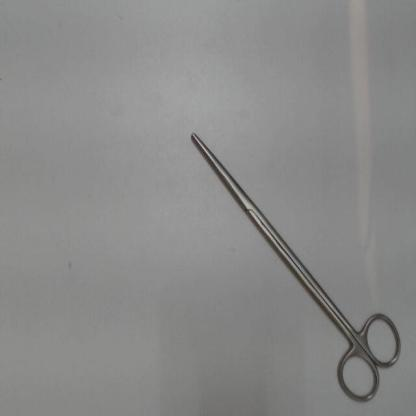9 Metzenbaum Scissors: (186, 124, 408, 411)
